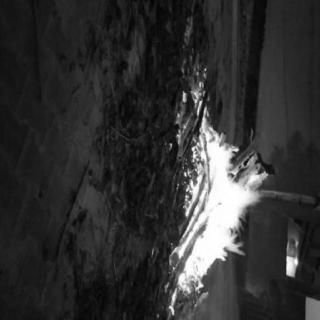Fire: (169, 67, 271, 299)
